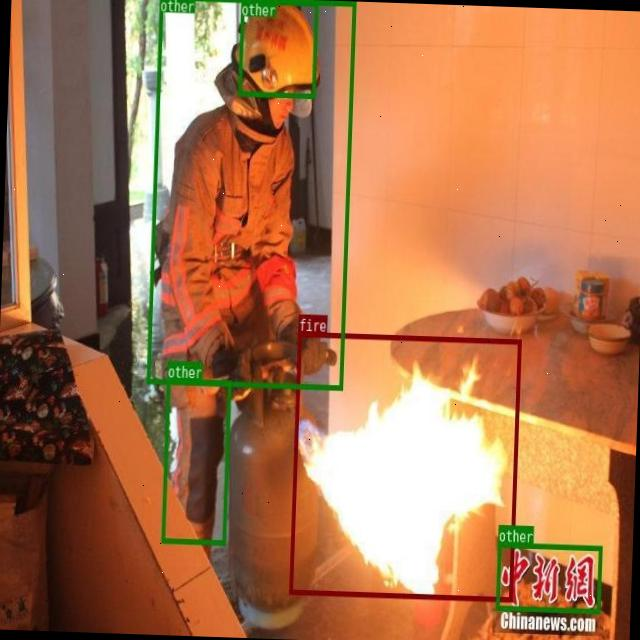fire: (288, 331, 520, 601)
